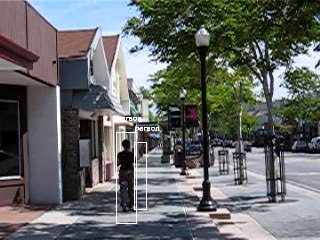person: (115, 139, 138, 214), (114, 139, 137, 214), (116, 139, 139, 214), (115, 138, 138, 213), (115, 140, 138, 215)
target_negative: (83, 204, 262, 230), (89, 118, 234, 133), (228, 159, 250, 193), (33, 120, 51, 156), (189, 35, 215, 59), (302, 30, 309, 59)
